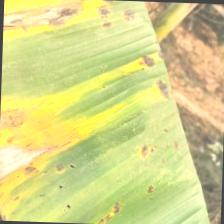pestalotiopsis: (0, 0, 220, 224)
